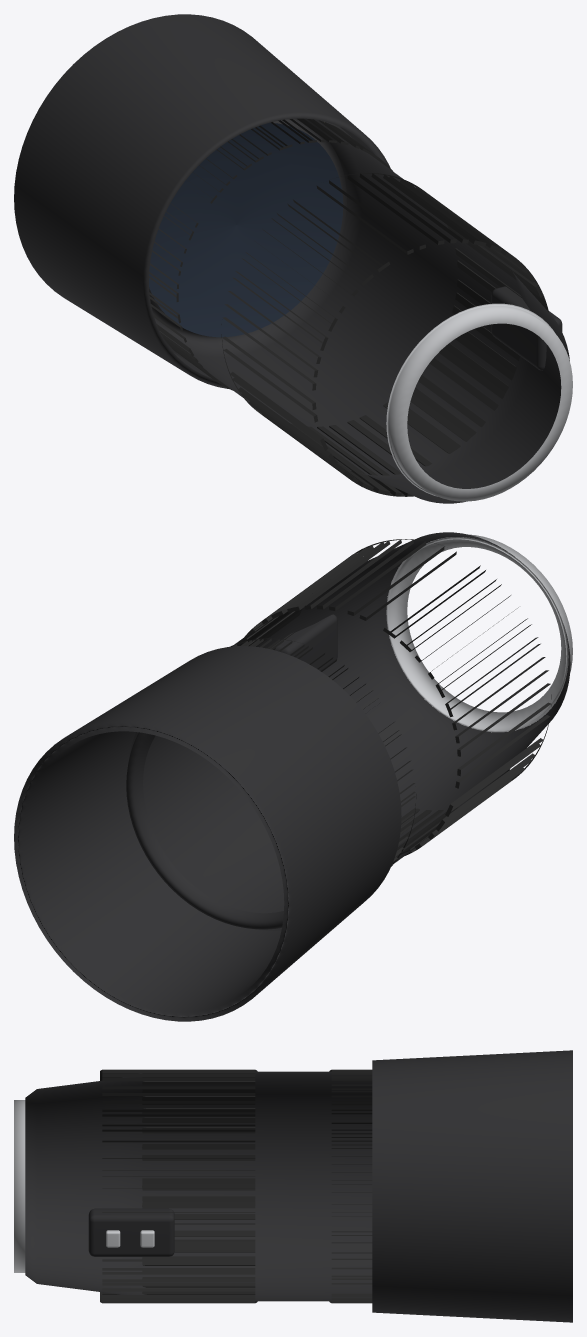
File: lens-l2.glb
3 views of the same model, one above another, from view 1: azimuth 30°, elevation 25°; view 2: azimuth 150°, elevation 25°; view 3: azimuth 270°, elevation 25° (orthographic). The views are drawn at different scales.
Parts seen in each view (by area): view 1: Hood, Barrel, FrontGlass, ZoomRing0, LensMount, FocusRing1, SwitchPanel, FrontRim; view 2: Hood, Barrel, ZoomRing0, LensMount, FrontRim, SwitchPanel, FocusRing1; view 3: Barrel, Hood, ZoomRing0, SwitchPanel, FocusRing1, LensMount.
Part boxes in pixels (<box>): Hood: <box>14,14,390,388</box>; Barrel: <box>155,118,569,503</box>; FrontGlass: <box>149,122,343,337</box>; ZoomRing0: <box>221,173,548,496</box>; LensMount: <box>386,303,572,501</box>; FocusRing1: <box>149,118,392,390</box>; SwitchPanel: <box>491,286,562,370</box>; FrontRim: <box>149,118,346,342</box>; Hood: <box>14,646,401,1021</box>; Barrel: <box>128,532,570,930</box>; ZoomRing0: <box>242,539,551,855</box>; LensMount: <box>386,534,572,732</box>; FrontRim: <box>126,732,283,929</box>; SwitchPanel: <box>275,614,337,671</box>; FocusRing1: <box>230,638,416,866</box>; Barrel: <box>25,1071,372,1301</box>; Hood: <box>372,1050,572,1322</box>; ZoomRing0: <box>100,1069,257,1303</box>; SwitchPanel: <box>88,1208,174,1256</box>; FocusRing1: <box>329,1069,372,1303</box>; LensMount: <box>14,1100,25,1272</box>.
Size of the model in its own units: 0.095 by 0.095 by 0.195.
